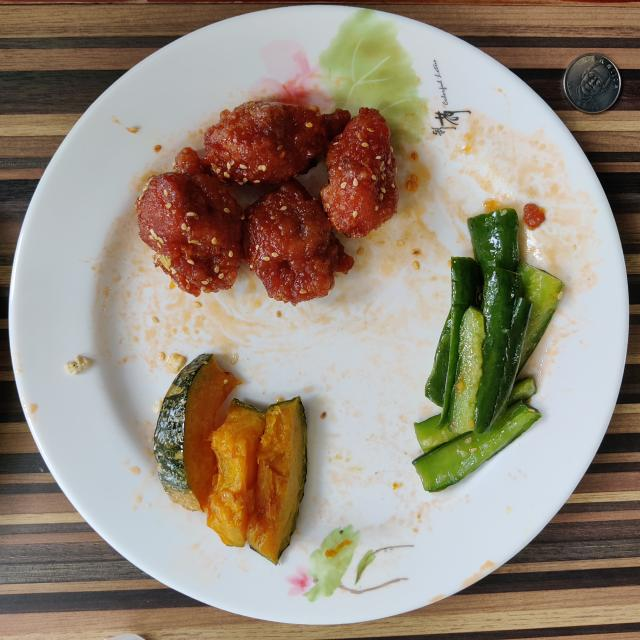coin: (562, 54, 621, 114)
cucumber: (412, 209, 564, 491)
pumpkin: (154, 354, 306, 564)
